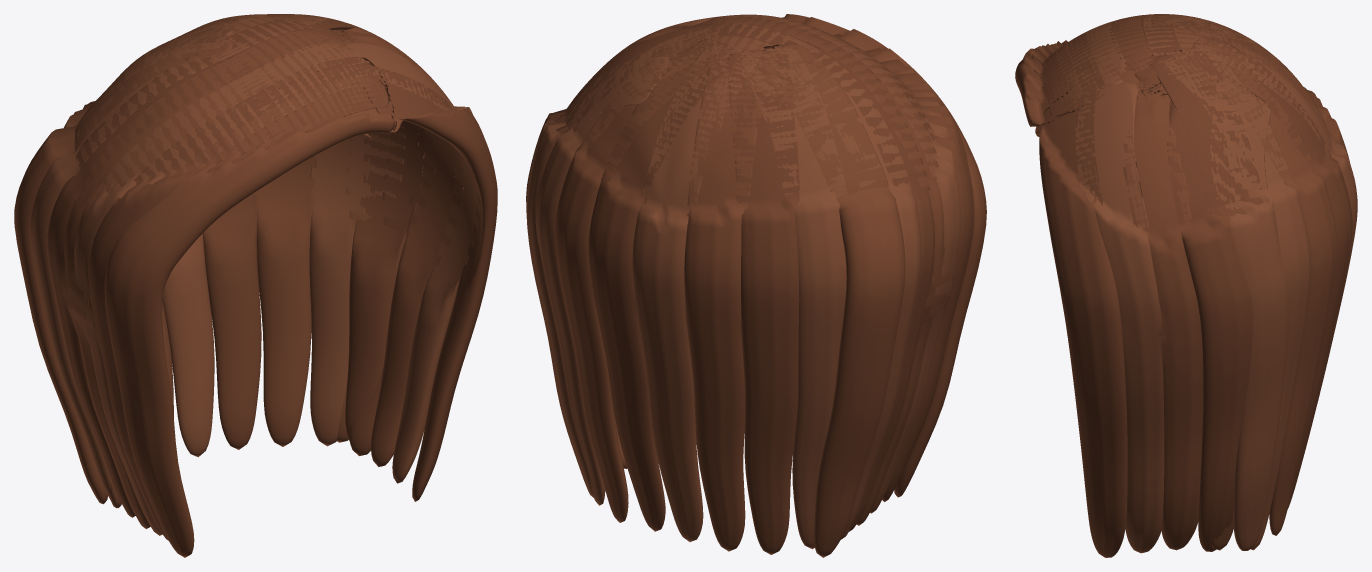
Rendered from Feminine-straight-headband252-hair.glb.
3 views of the same model, side by side, from view 1: azimuth 30°, elevation 25°; view 2: azimuth 150°, elevation 25°; view 3: azimuth 270°, elevation 25° (orthographic). The views are drawn at different scales.
Visible parts, largest first — view 1: 226 hair / Hair / sculpted 0.001, 226 hair / Hair / sculpted 1.002, 226 hair / Hair / sculpted 2.001; view 2: 226 hair / Hair / sculpted 0.001, 226 hair / Hair / sculpted 2.001, 226 hair / Hair / sculpted 1.002; view 3: 226 hair / Hair / sculpted 1.002, 226 hair / Hair / sculpted 2.001, 226 hair / Hair / sculpted 0.001.
Boxes of the visible parts, x1,y1,x2,y2 form: 226 hair / Hair / sculpted 0.001: (14, 14, 463, 557); 226 hair / Hair / sculpted 1.002: (47, 14, 497, 540); 226 hair / Hair / sculpted 2.001: (30, 14, 480, 535); 226 hair / Hair / sculpted 0.001: (555, 14, 986, 557); 226 hair / Hair / sculpted 2.001: (526, 14, 960, 549); 226 hair / Hair / sculpted 1.002: (526, 14, 974, 554); 226 hair / Hair / sculpted 1.002: (1031, 14, 1352, 557); 226 hair / Hair / sculpted 2.001: (1056, 14, 1357, 553); 226 hair / Hair / sculpted 0.001: (1015, 14, 1349, 550).
Size of the model in its own units: 1.02 by 1.17 by 0.7803.
